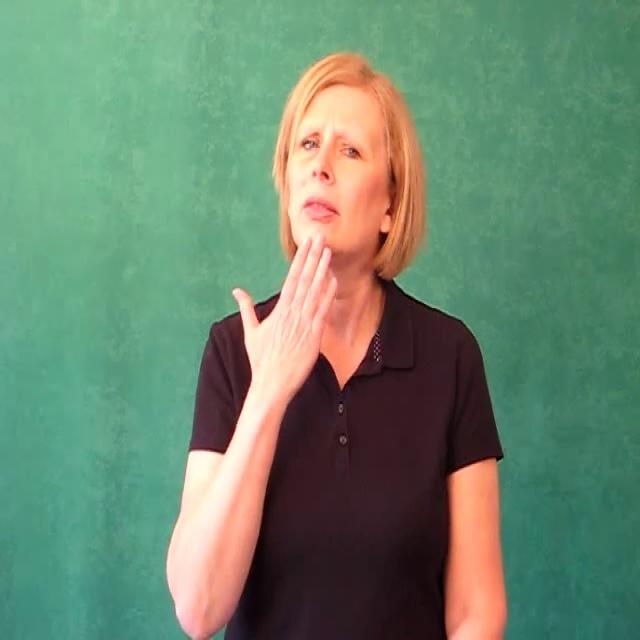thankyou: (239, 128, 370, 405)
